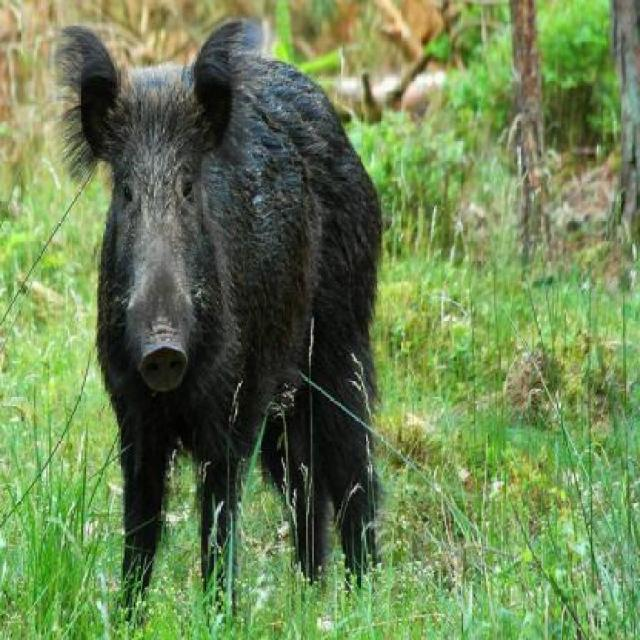wildboar: (55, 14, 390, 632)
